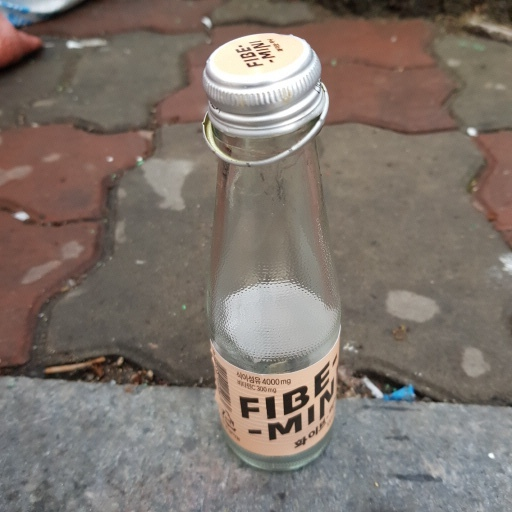Glass_4: (192, 29, 353, 470)
